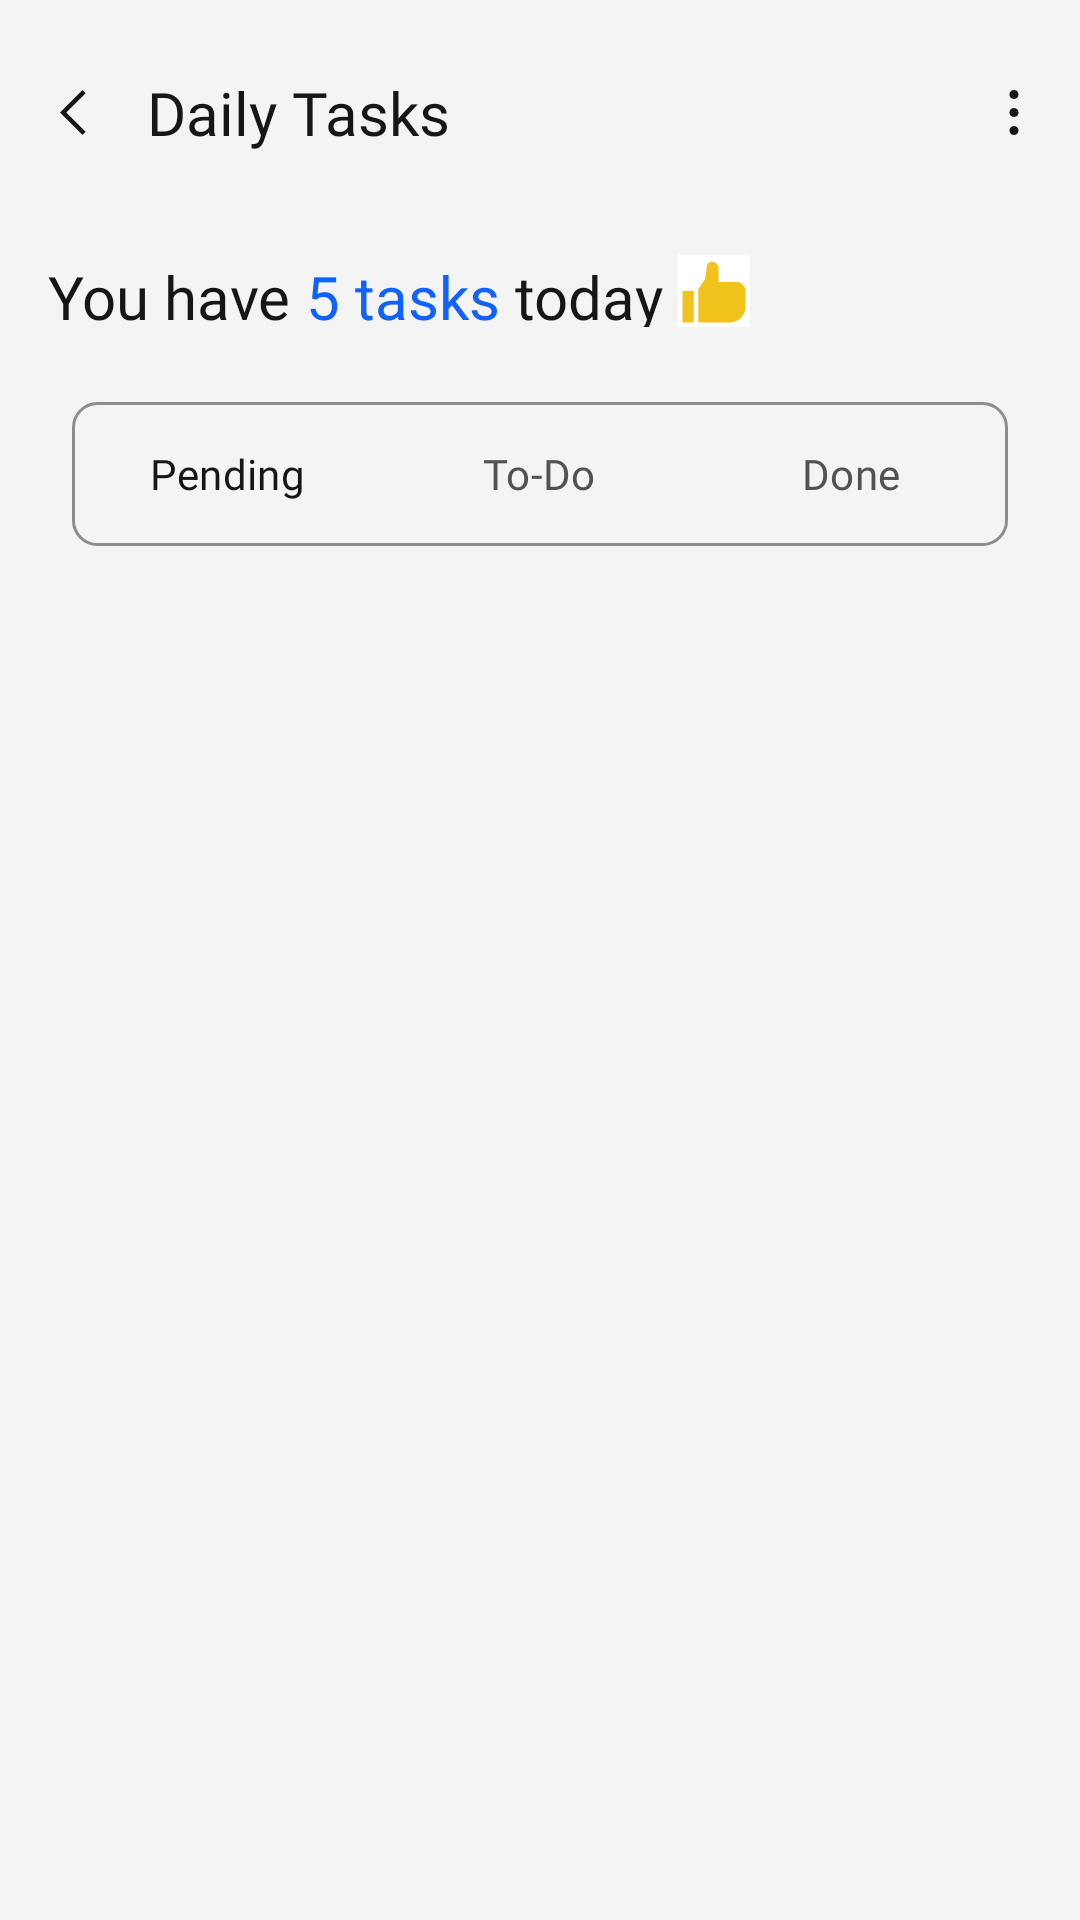

Icon bounding boxes for this 1080×1920 phone screenshot, format {"left": x1, "top": y1, "right": x2, "bottom": y2}:
arrow: {"left": 60, "top": 90, "right": 86, "bottom": 135}
thumps up: {"left": 682, "top": 261, "right": 746, "bottom": 323}
